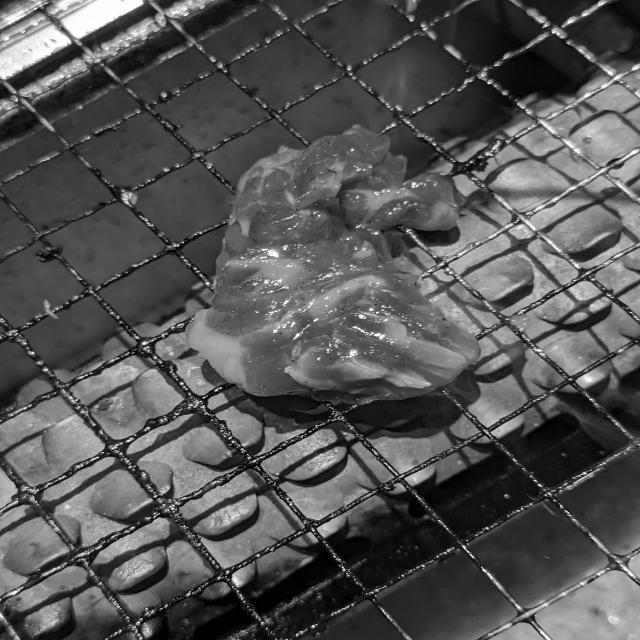NG raw beef,: (169, 116, 494, 416)
